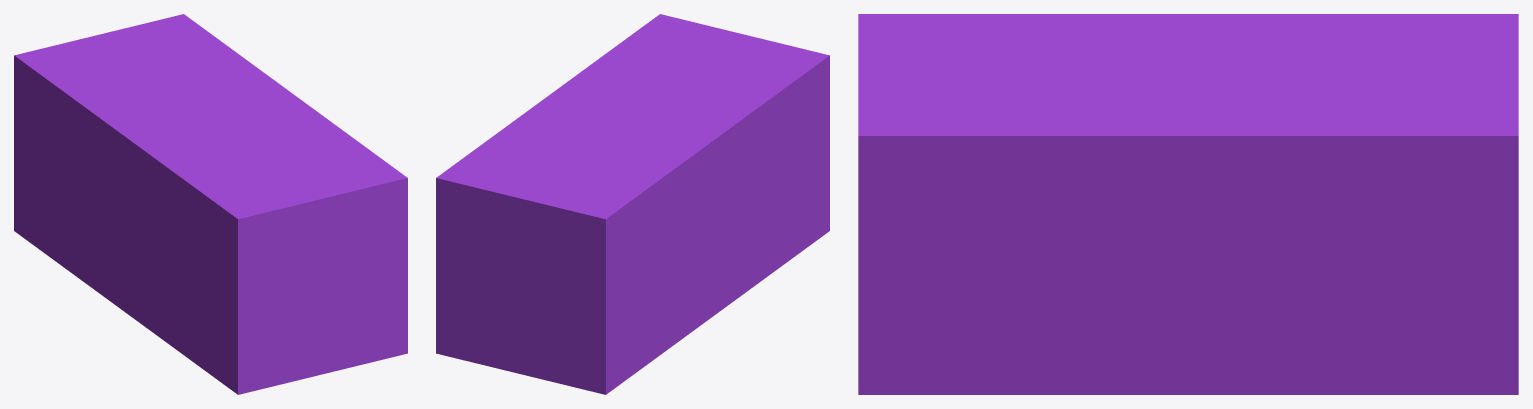
The model's file is ExhibitGlass_1.002_chunks.fbx.
3 views of the same model, side by side, from view 1: azimuth 30°, elevation 25°; view 2: azimuth 150°, elevation 25°; view 3: azimuth 270°, elevation 25° (orthographic). The views are drawn at different scales.
Parts seen in each view (by area): view 1: ExhibitGlass_1.002_0, ExhibitGlass_1.002_3, ExhibitGlass_1.002_1, ExhibitGlass_1.002_2; view 2: ExhibitGlass_1.002_3, ExhibitGlass_1.002_0, ExhibitGlass_1.002_2, ExhibitGlass_1.002_1; view 3: ExhibitGlass_1.002_2, ExhibitGlass_1.002_0, ExhibitGlass_1.002_1, ExhibitGlass_1.002_3.
Boxes of the visible parts, x1,y1,x2,y2 form: ExhibitGlass_1.002_0: (134,94,407,319); ExhibitGlass_1.002_3: (14,33,187,306); ExhibitGlass_1.002_1: (117,250,407,394); ExhibitGlass_1.002_2: (105,14,296,96); ExhibitGlass_1.002_3: (515,131,751,394); ExhibitGlass_1.002_0: (549,14,829,199); ExhibitGlass_1.002_2: (436,95,598,374); ExhibitGlass_1.002_1: (709,156,829,318); ExhibitGlass_1.002_2: (1085,78,1518,394); ExhibitGlass_1.002_0: (858,14,1271,299); ExhibitGlass_1.002_1: (858,281,1185,394); ExhibitGlass_1.002_3: (1165,14,1518,79).
Bounding box in the file's own units: 270 × 267 × 618.
